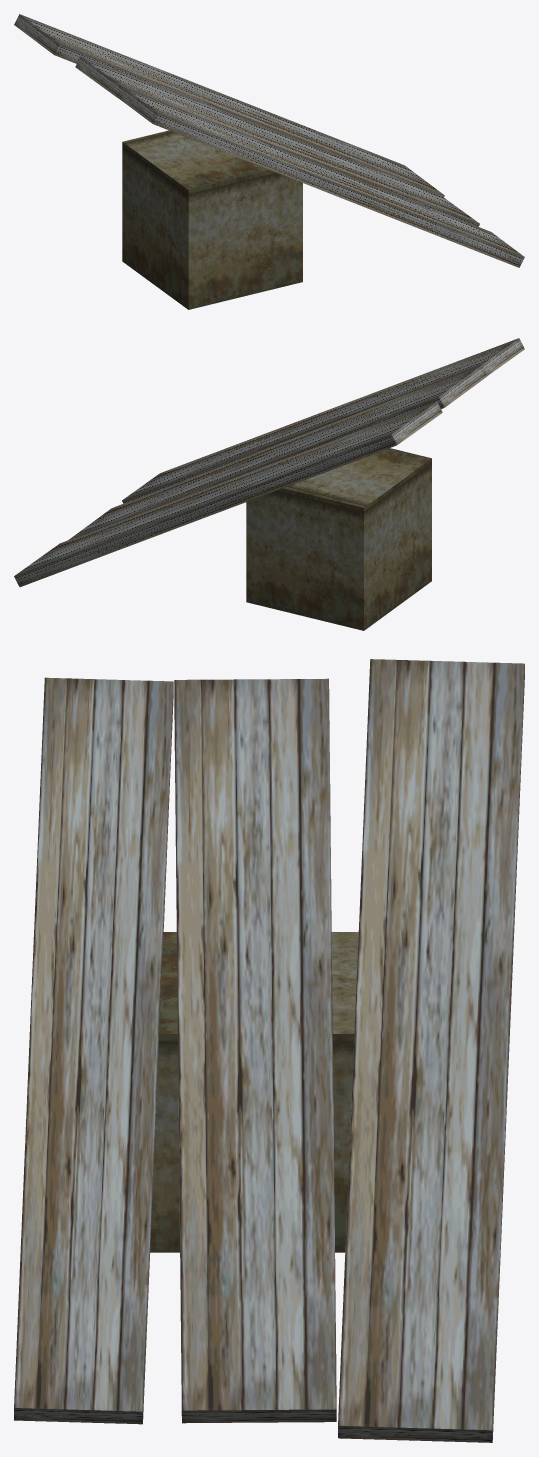
The model's file is ramp.obj.
3 renders of one model, top to bottom at view 1: azimuth 30°, elevation 25°; view 2: azimuth 150°, elevation 25°; view 3: azimuth 270°, elevation 25°, orthographic. The views are drawn at different scales.
Size of the model in its own units: 5.03 by 3.1 by 3.18.
Materials: 2 (2 with a texture image).
